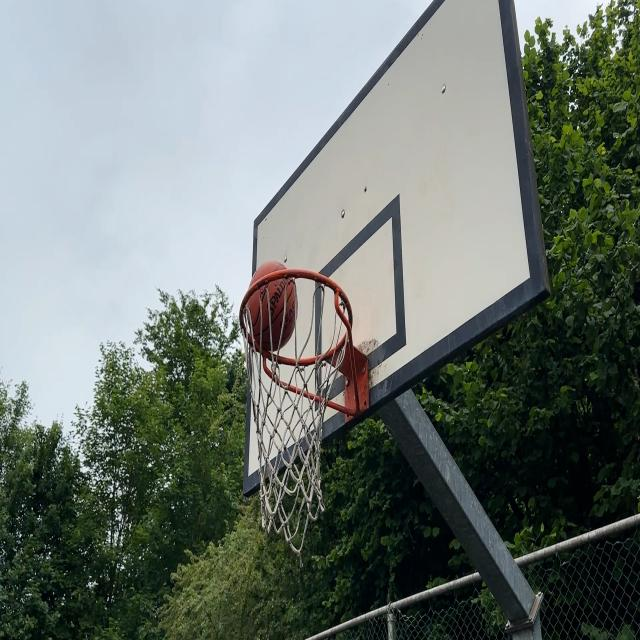rebound_hit: (244, 264, 298, 353)
